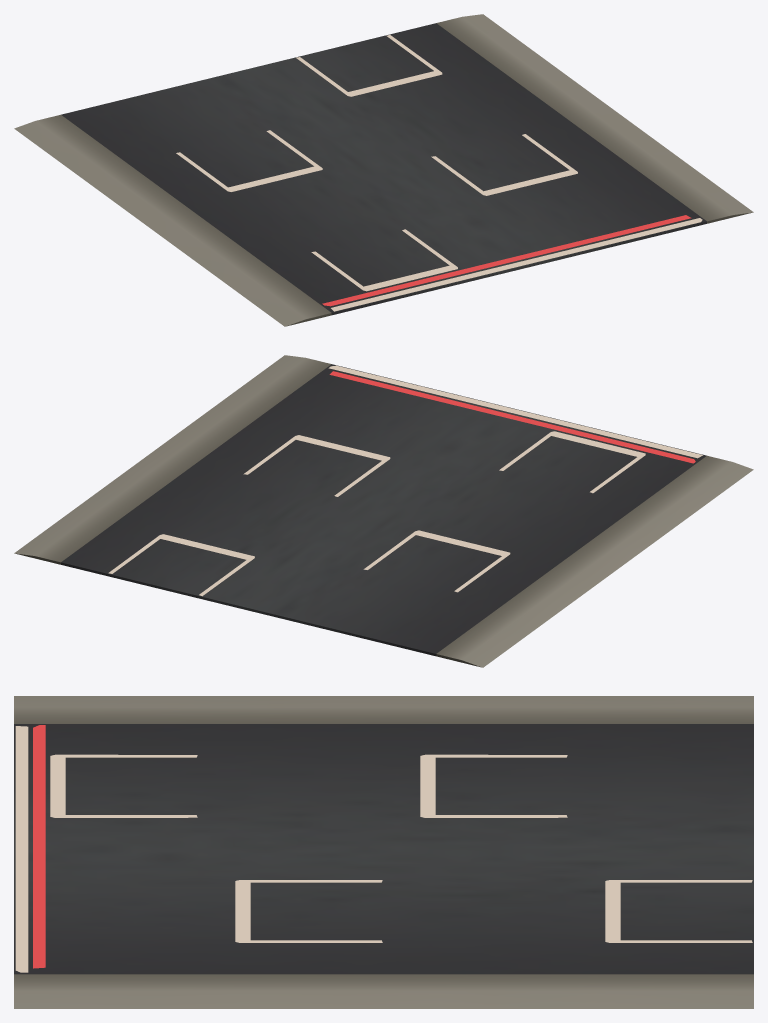
File: Straight_1B.glb
3 views of the same model, one above another, from view 1: azimuth 30°, elevation 25°; view 2: azimuth 150°, elevation 25°; view 3: azimuth 270°, elevation 25° (orthographic). The views are drawn at different scales.
Parts seen in each view (by area): view 1: Straight_1B; view 2: Straight_1B; view 3: Straight_1B.
Boxes of the visible parts, x1=… form: Straight_1B: x1=14, y1=14, x2=753, y2=326; Straight_1B: x1=14, y1=355, x2=753, y2=667; Straight_1B: x1=14, y1=696, x2=753, y2=1008.
Size of the model in its own units: 20 by 0.1065 by 20.
Materials: 1 (1 with a texture image).
